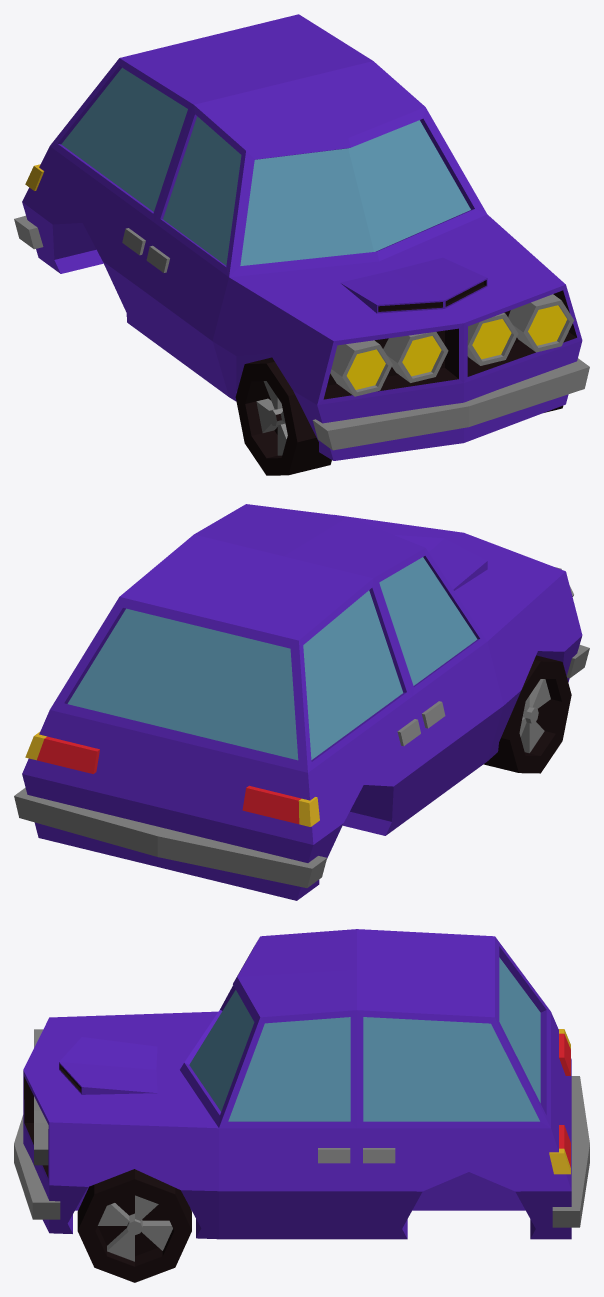
Rendered from lowpolcar2.fbx.
3 renders of one model, top to bottom at view 1: azimuth 30°, elevation 25°; view 2: azimuth 150°, elevation 25°; view 3: azimuth 270°, elevation 25°, orthographic. The views are drawn at different scales.
Visible parts, largest first — view 1: Cube, Cube.002; view 2: Cube, Cube.002; view 3: Cube, Cube.001.
Boxes of the visible parts, left/top/right/bottom form: Cube: left=14, top=14, right=589, bottom=460; Cube.002: left=235, top=357, right=331, bottom=475; Cube: left=14, top=504, right=589, bottom=900; Cube.002: left=483, top=655, right=571, bottom=773; Cube: left=14, top=929, right=589, bottom=1239; Cube.001: left=77, top=1169, right=191, bottom=1282.
Bounding box in the file's own units: 163 × 141 × 294.
